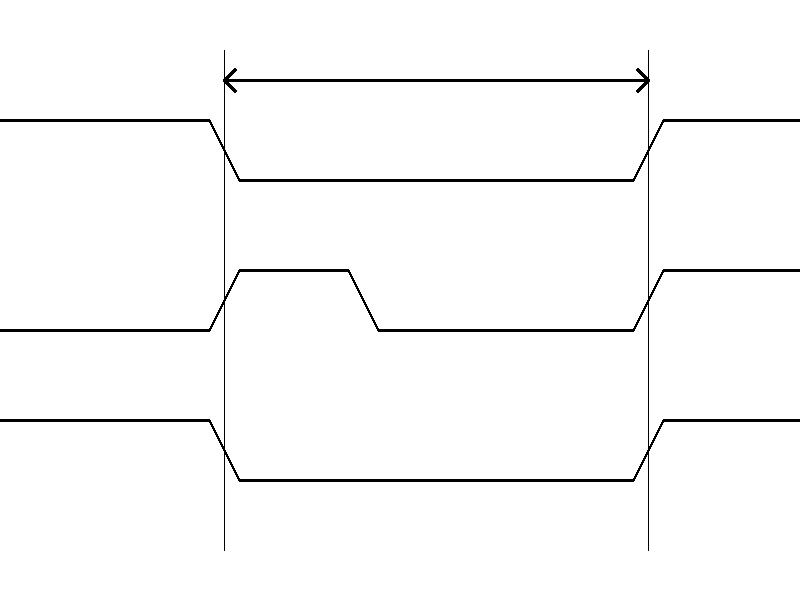double_arrow: (224, 65, 648, 95)
